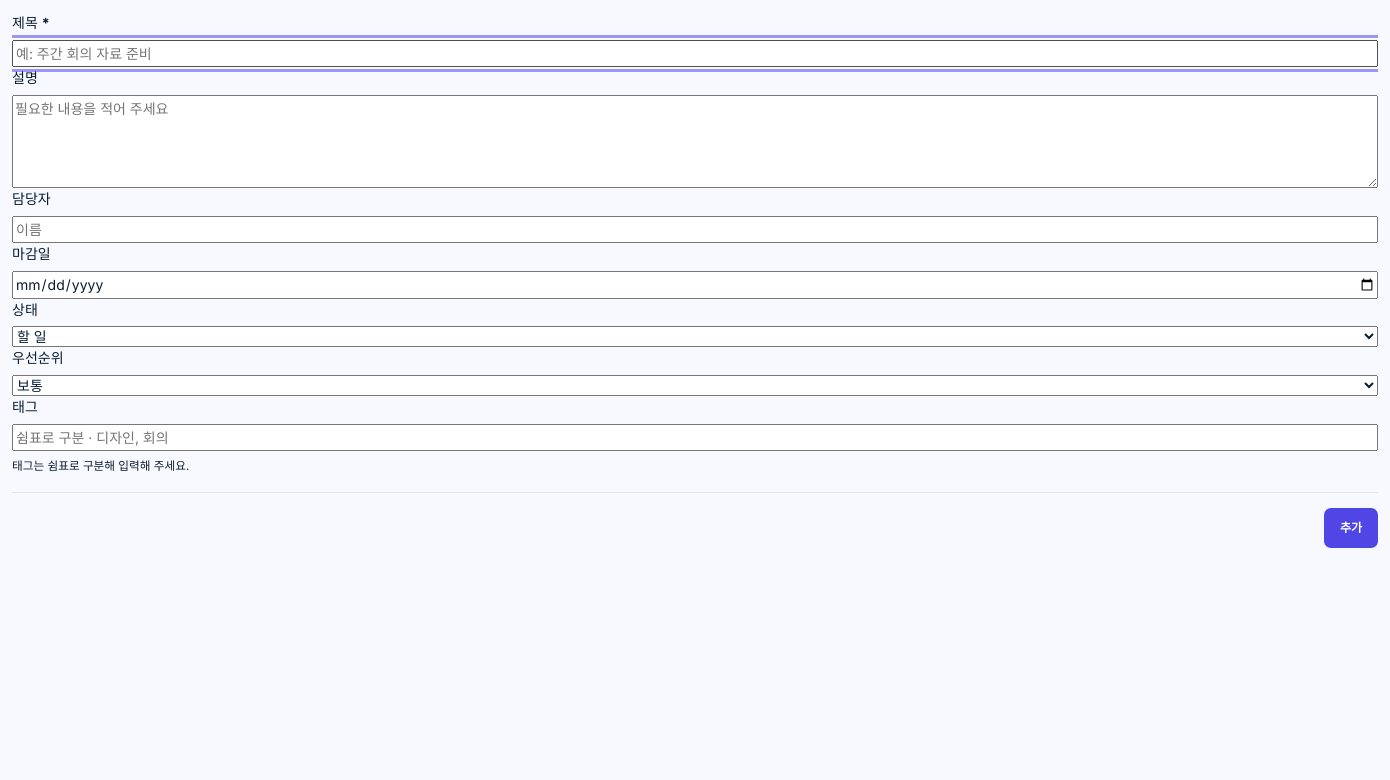
Test case: TodoForm › shows validation feedback without submitting an empty title
What coordinates should you click on to do the following:
click the button "추가"
I would click on:
 (1351, 528)
Its box is 1324,508 -> 1378,548.
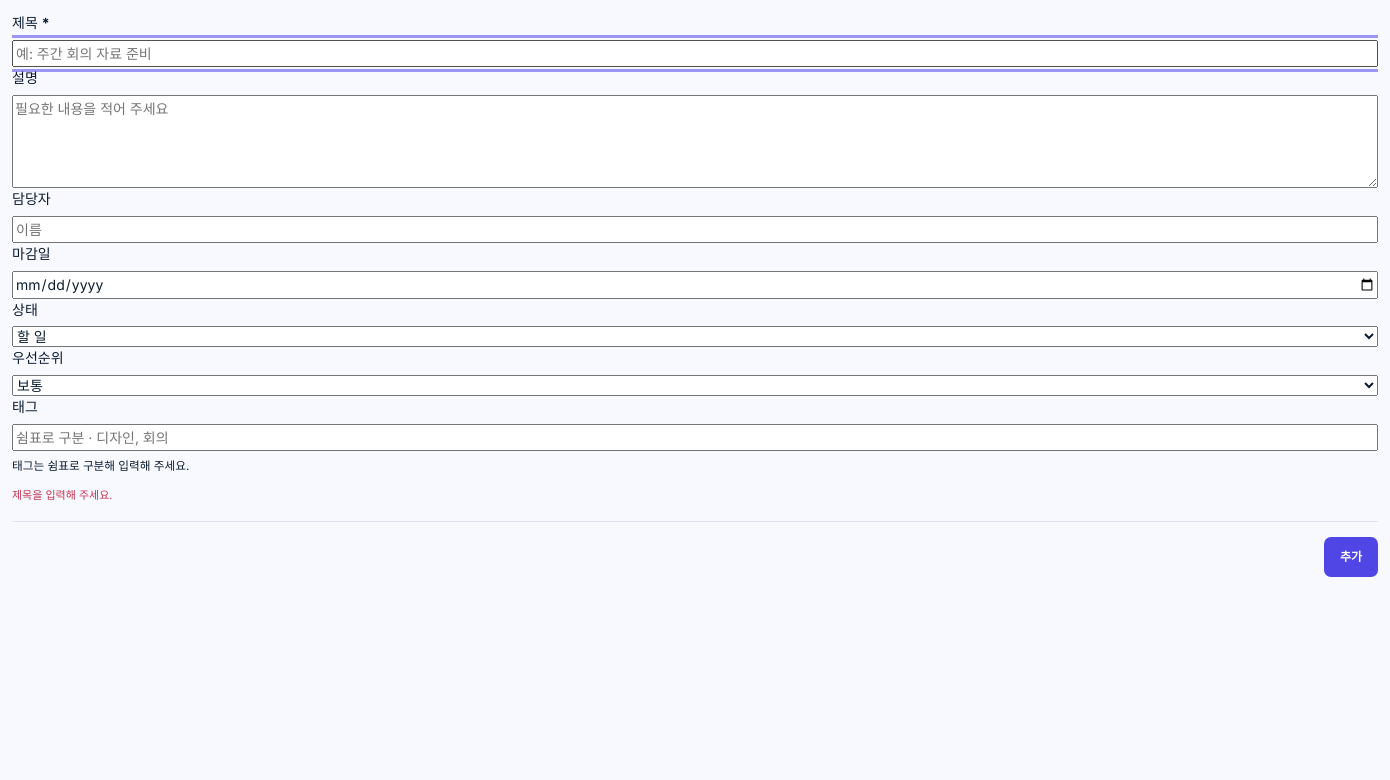
Now the message shows "제목", box 12,488 -> 112,502
